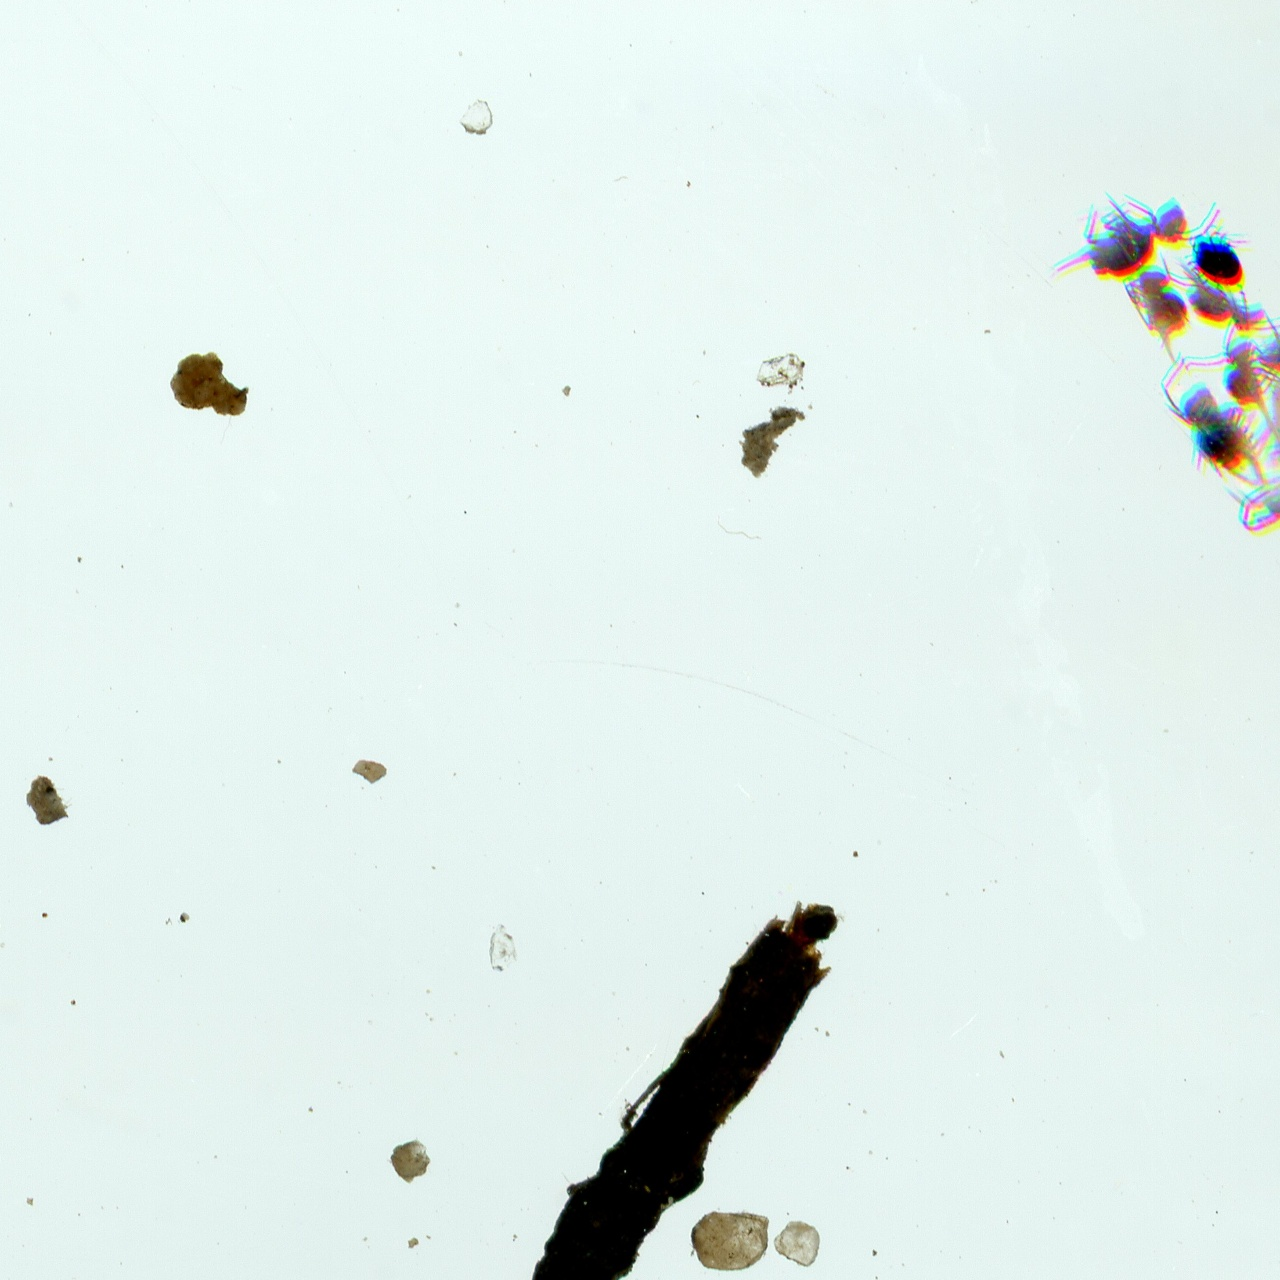arthropod: (1015, 143, 1238, 316), (1142, 333, 1279, 512), (1107, 236, 1234, 379), (1156, 253, 1280, 359), (1216, 309, 1280, 438), (1235, 376, 1280, 538), (1184, 227, 1255, 297), (1258, 302, 1280, 376)
